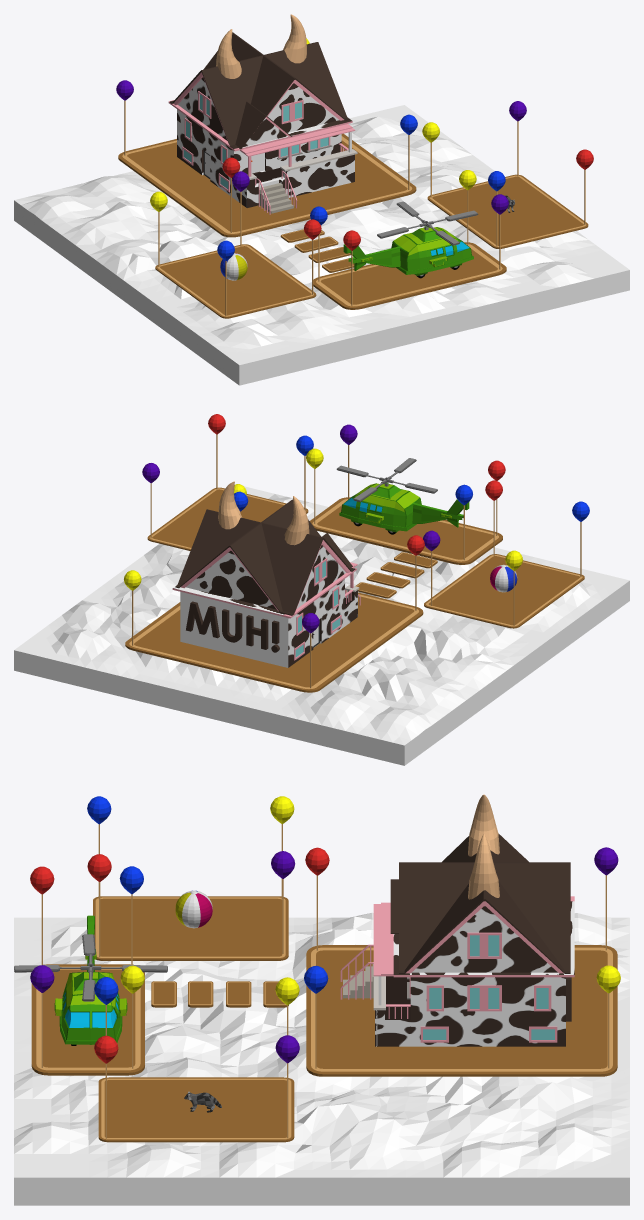
3 views of the same model, one above another, from view 1: azimuth 30°, elevation 25°; view 2: azimuth 150°, elevation 25°; view 3: azimuth 270°, elevation 25° (orthographic). The views are drawn at different scales.
Parts seen in each view (by area): view 1: Cube.013, Cube.1242, VEHICLES_HELICOPTER, OBJRANDOM_BEACHBALL; view 2: Cube.013, Cube.1242, VEHICLES_HELICOPTER, OBJRANDOM_BEACHBALL; view 3: Cube.013, Cube.1242, VEHICLES_HELICOPTER, OBJRANDOM_BEACHBALL.
Boxes of the visible parts, x1,y1,x2,y2 form: Cube.013: (14, 38, 629, 385); Cube.1242: (168, 14, 357, 214); VEHICLES_HELICOPTER: (343, 201, 478, 278); OBJRANDOM_BEACHBALL: (220, 253, 247, 280); Cube.013: (14, 414, 629, 765); Cube.1242: (172, 481, 360, 667); VEHICLES_HELICOPTER: (336, 458, 469, 534); OBJRANDOM_BEACHBALL: (490, 564, 517, 592); Cube.013: (14, 796, 629, 1205); Cube.1242: (340, 794, 574, 1046); VEHICLES_HELICOPTER: (14, 915, 167, 1045); OBJRANDOM_BEACHBALL: (175, 890, 212, 928).
Size of the model in its own units: 4000 by 1955 by 4001.
36 materials, 1 textured.
